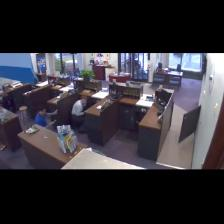person: (72, 96, 86, 132), (35, 107, 57, 128)
